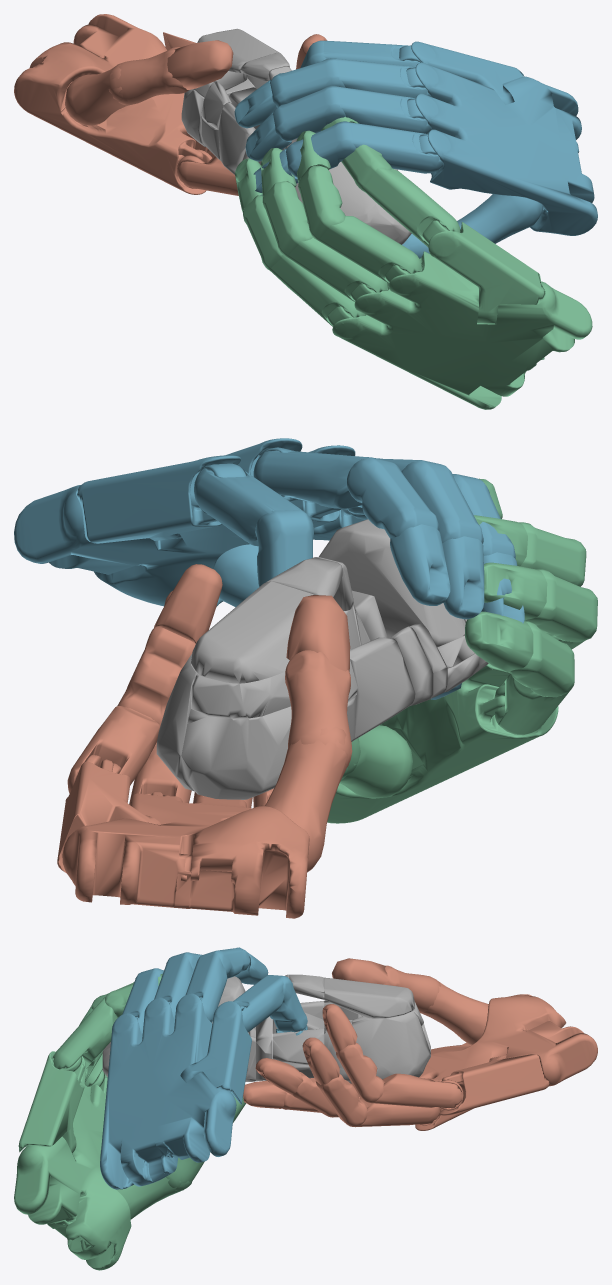
Rendered from novel_mujoco-White_Rose_Tieks_Leather_Ballet_Flats_with_Floral_Rosettes_grasp.glb.
3 views of the same model, one above another, from view 1: azimuth 30°, elevation 25°; view 2: azimuth 150°, elevation 25°; view 3: azimuth 270°, elevation 25° (orthographic). The views are drawn at different scales.
Bounding box in the file's own units: 0.2211 × 0.1784 × 0.3384.
